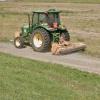Tractor: (10, 5, 76, 57)
